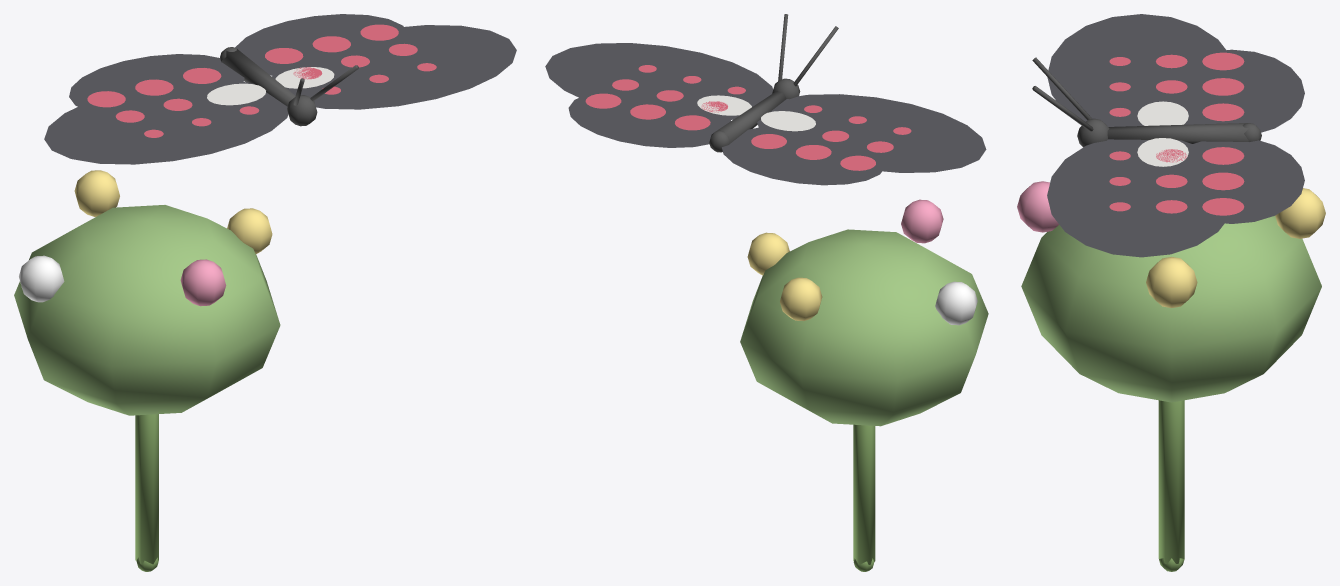
Rendered from common-rose.glb.
3 views of the same model, side by side, from view 1: azimuth 30°, elevation 25°; view 2: azimuth 150°, elevation 25°; view 3: azimuth 270°, elevation 25° (orthographic). The views are drawn at different scales.
Parts seen in each view (by area): view 1: e, wingdisc, wingdisc.012, e.007; view 2: e, wingdisc, wingdisc.012, e.007; view 3: e, wingdisc.012, wingdisc, e.007.
Part boxes in pixels (left/top/right/bottom): e: left=14, top=170, right=280, bottom=571; wingdisc: left=44, top=54, right=288, bottom=164; wingdisc.012: left=235, top=14, right=516, bottom=109; e.007: left=220, top=47, right=358, bottom=126; e: left=740, top=199, right=988, bottom=571; wingdisc: left=722, top=94, right=986, bottom=185; wingdisc.012: left=545, top=43, right=773, bottom=147; e.007: left=709, top=14, right=838, bottom=152; e: left=1017, top=181, right=1325, bottom=571; wingdisc.012: left=1047, top=138, right=1304, bottom=257; wingdisc: left=1047, top=14, right=1304, bottom=132; e.007: left=1032, top=57, right=1261, bottom=147.
Size of the model in its own units: 1.38 by 1.44 by 0.7187.
